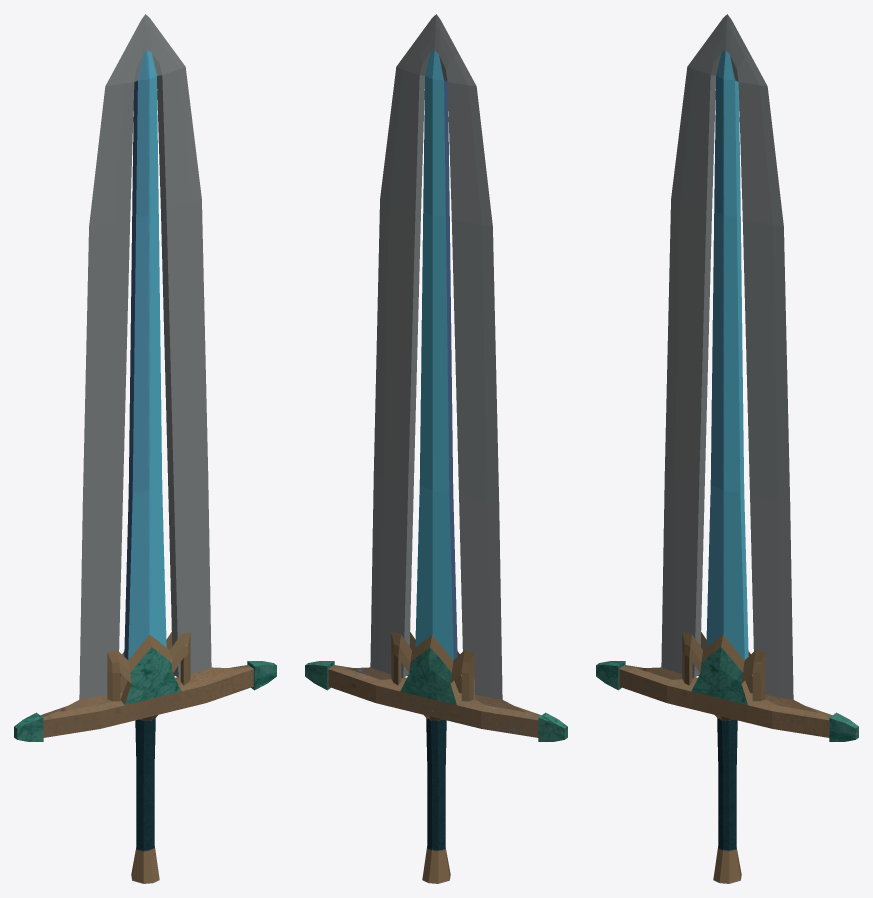
The model's file is espada2.fbx.
The picture shows the model from 3 angles, left to right: view 1: azimuth 30°, elevation 25°; view 2: azimuth 150°, elevation 25°; view 3: azimuth 330°, elevation 25°; orthographic projection.
Parts seen in each view (by area): view 1: Espada_2; view 2: Espada_2; view 3: Espada_2.
Part boxes in pixels (x1,y1,x2,y2): Espada_2: [14, 14, 276, 883]; Espada_2: [305, 14, 567, 883]; Espada_2: [596, 14, 858, 883].
Size of the model in its own units: 34.65 by 110 by 3.63.
